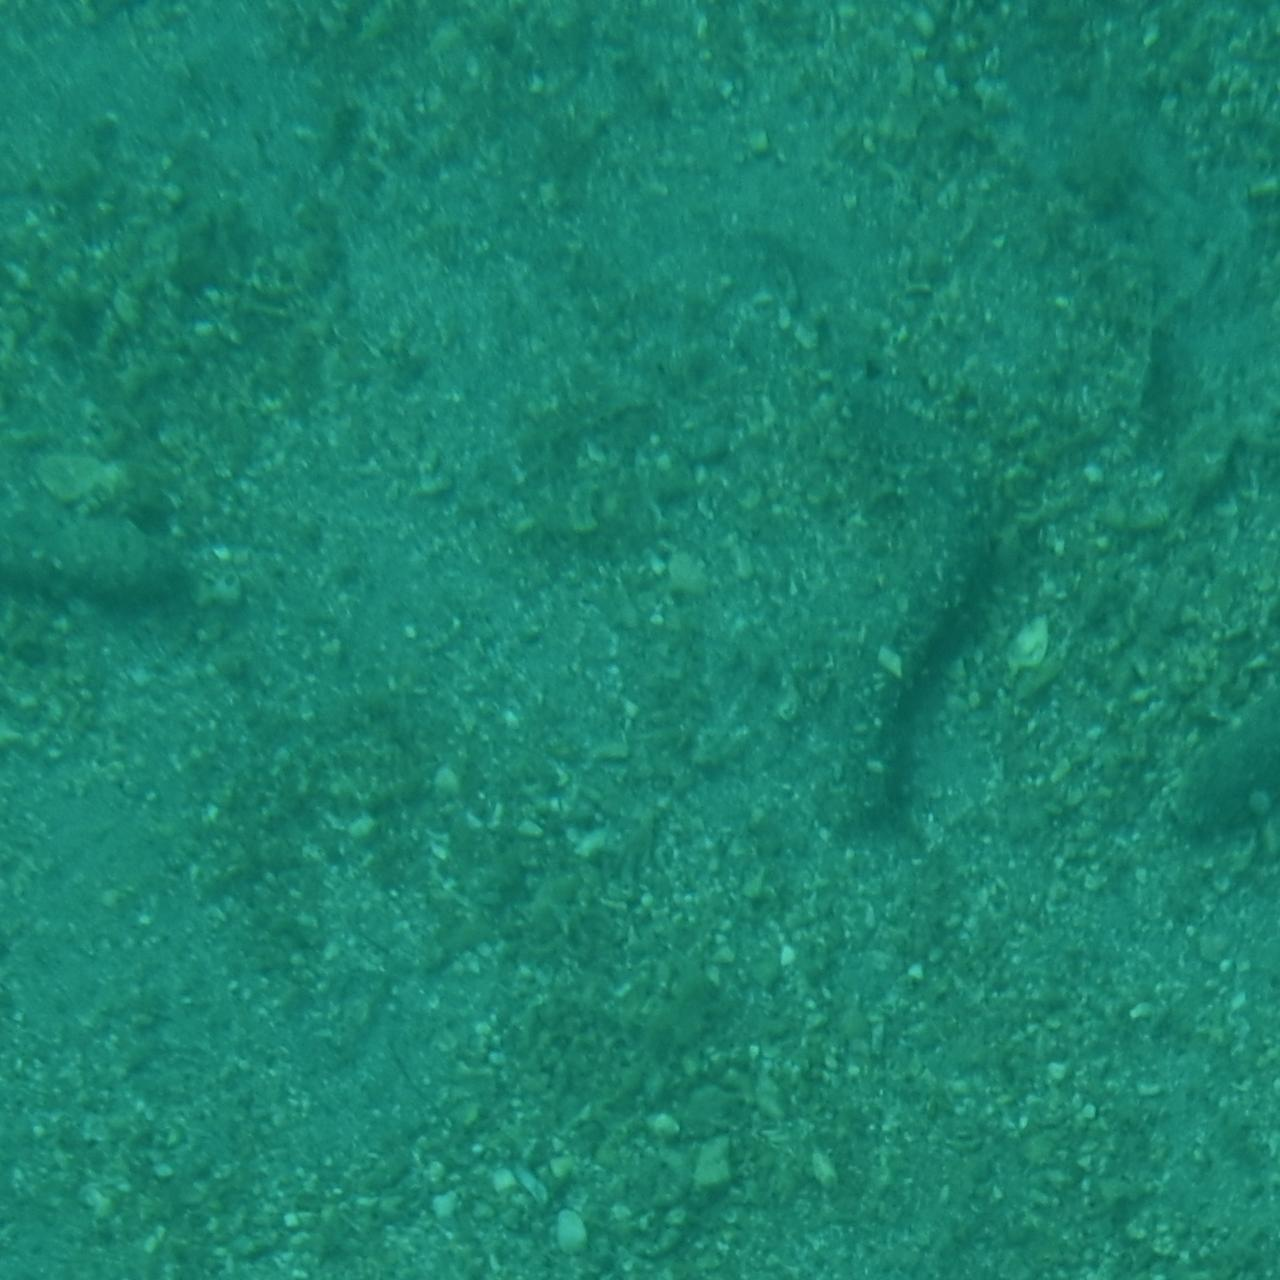Holothuria tubulosa: (818, 471, 1016, 867), (1063, 624, 1280, 846), (0, 469, 250, 622)
